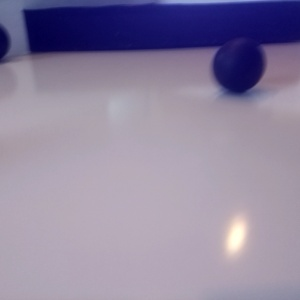zone: (1, 8, 225, 59)
